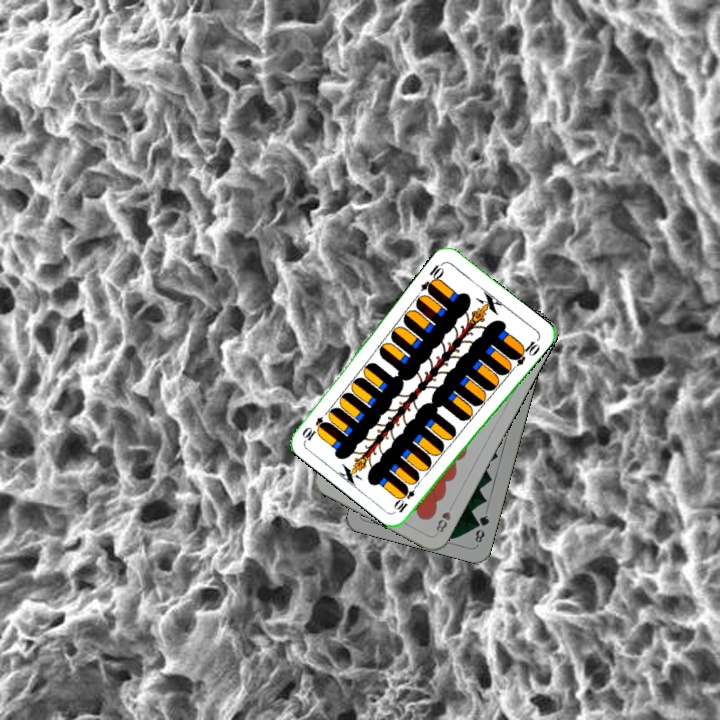E10: (417, 258, 447, 296), (391, 478, 421, 515)
G8: (471, 511, 492, 547)
H8: (432, 507, 453, 537)
